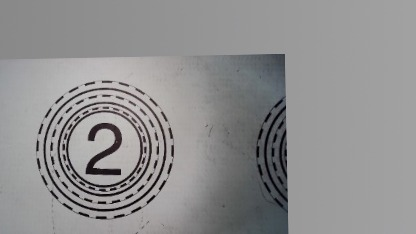2r: (33, 78, 176, 220)
